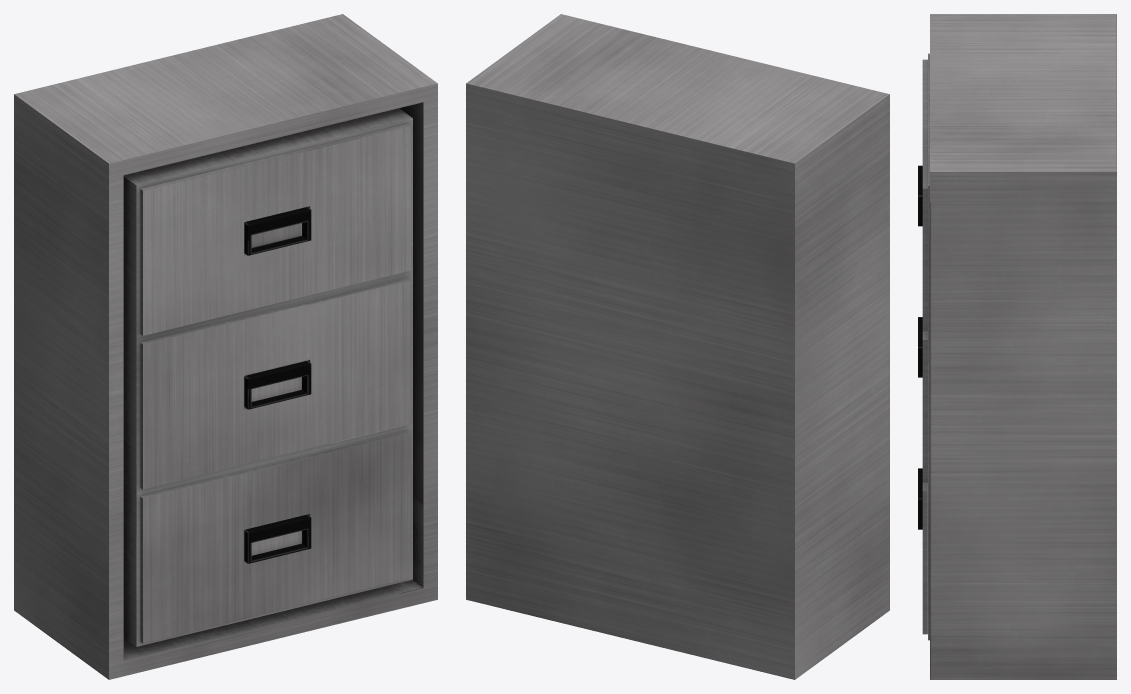
Rendered from cabinet.fbx.
3 renders of one model, left to right at view 1: azimuth 30°, elevation 25°; view 2: azimuth 150°, elevation 25°; view 3: azimuth 270°, elevation 25°, orthographic.
Parts seen in each view (by area): view 1: cabinet handles; view 2: cabinet handles; view 3: cabinet handles.
Boxes of the visible parts, <box> form: cabinet handles: <box>14,14,437,679</box>; cabinet handles: <box>466,14,889,679</box>; cabinet handles: <box>918,14,1116,679</box>.
Bounding box in the file's own units: 200 × 300 × 106.
Materials: 2 (2 with a texture image).
